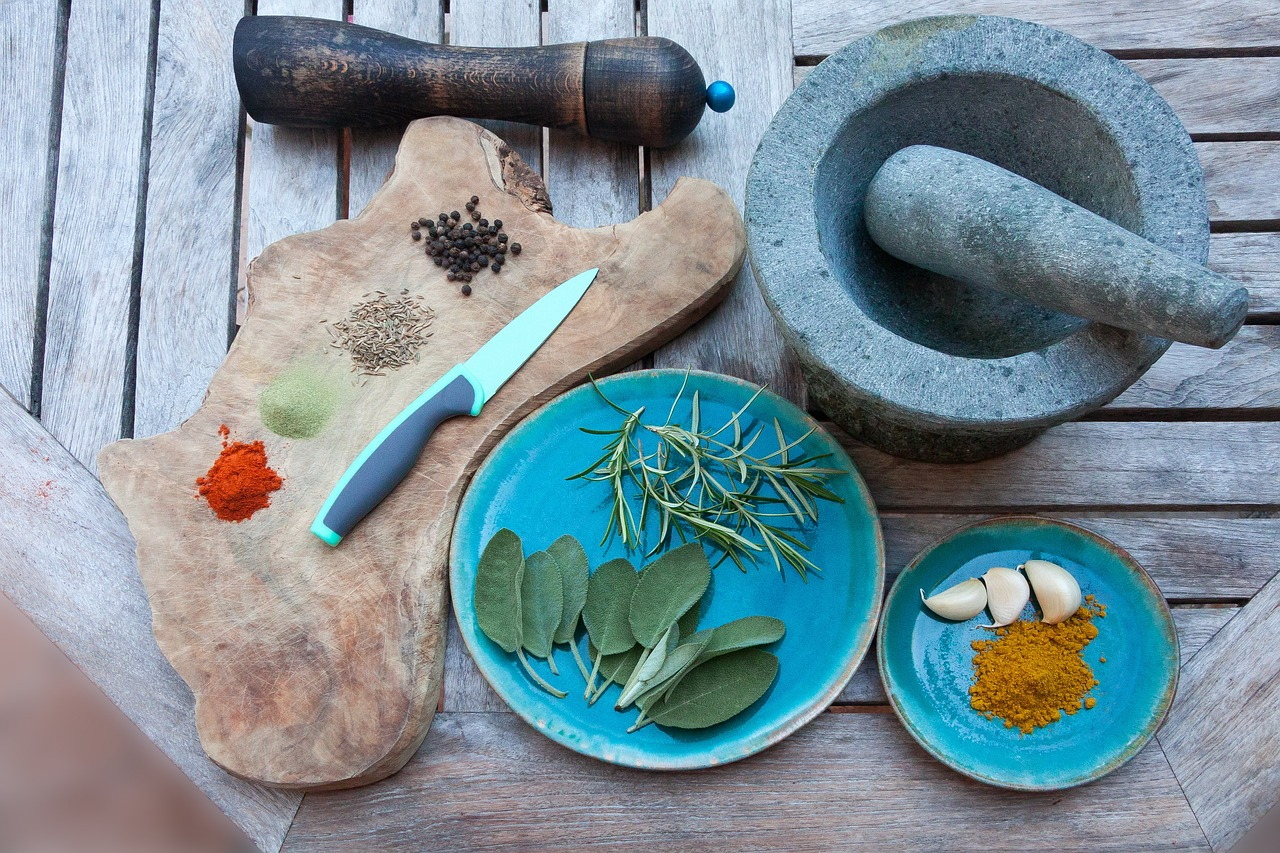knife: (298, 262, 616, 563)
